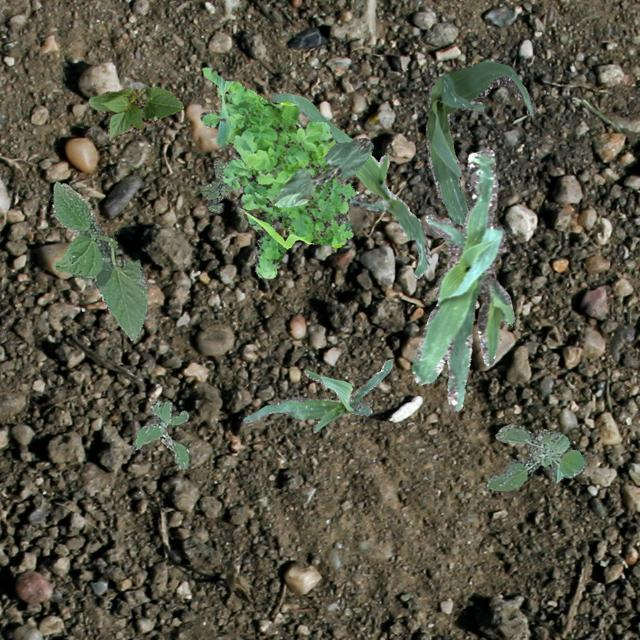crop: (268, 91, 430, 278), (411, 147, 514, 410), (424, 61, 534, 224), (51, 180, 148, 338), (242, 358, 392, 432), (272, 137, 372, 206), (88, 85, 182, 138)
weed: (200, 66, 358, 276), (486, 424, 584, 489), (132, 400, 188, 470), (198, 156, 234, 212)
